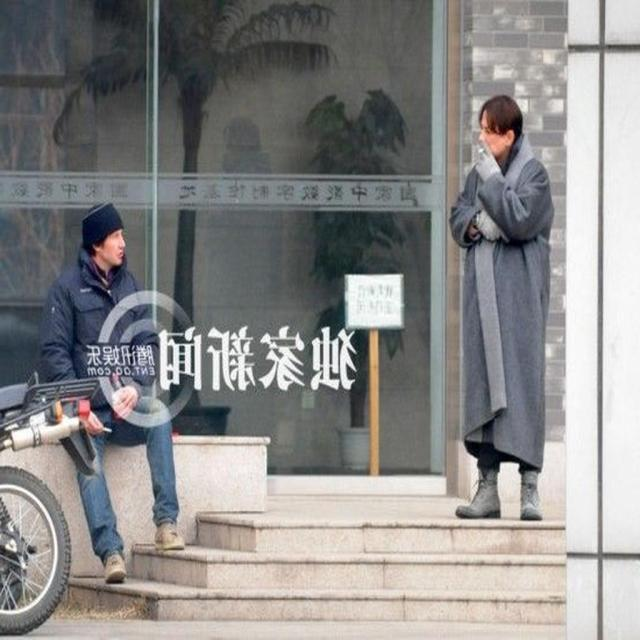smoking: (68, 194, 166, 439), (463, 85, 544, 185)
